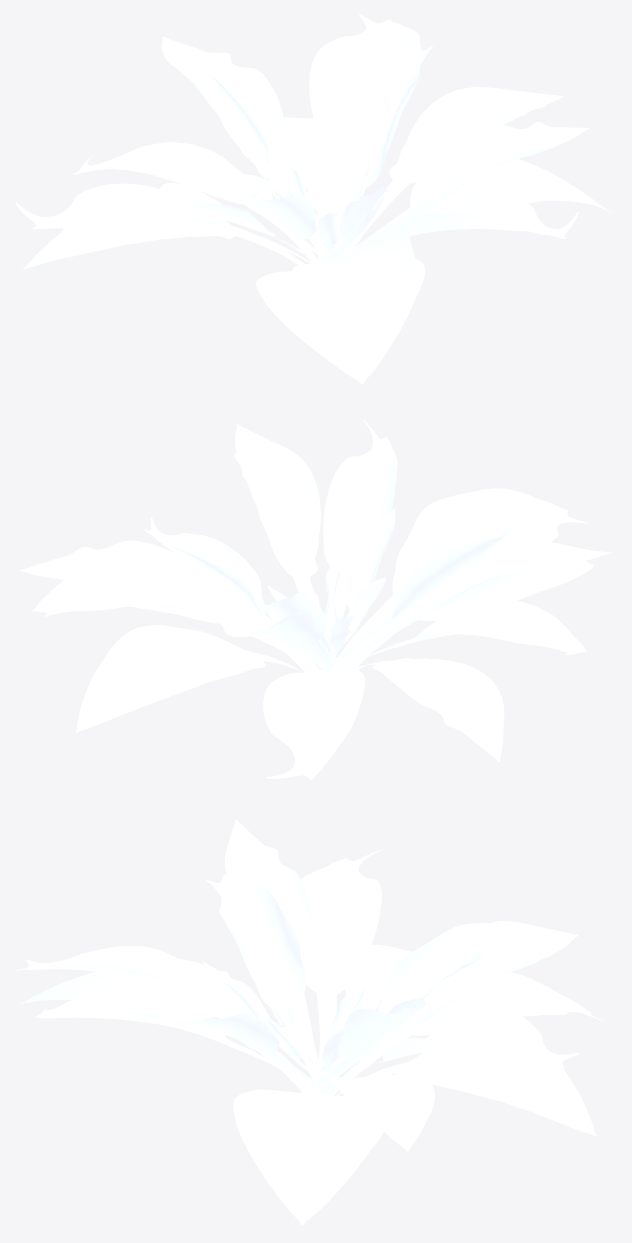
3 views of the same model, one above another, from view 1: azimuth 30°, elevation 25°; view 2: azimuth 150°, elevation 25°; view 3: azimuth 270°, elevation 25° (orthographic). The views are drawn at different scales.
Parts seen in each view (by area): view 1: SM_FH_Sm_Plant_03_LOD0; view 2: SM_FH_Sm_Plant_03_LOD0; view 3: SM_FH_Sm_Plant_03_LOD0.
Part boxes in pixels (left/top/right/bottom): SM_FH_Sm_Plant_03_LOD0: left=15, top=14, right=612, bottom=384; SM_FH_Sm_Plant_03_LOD0: left=20, top=419, right=611, bottom=780; SM_FH_Sm_Plant_03_LOD0: left=15, top=819, right=610, bottom=1224.
Size of the model in its own units: 2.2 by 0.6659 by 2.07.
1 material, 1 textured.
